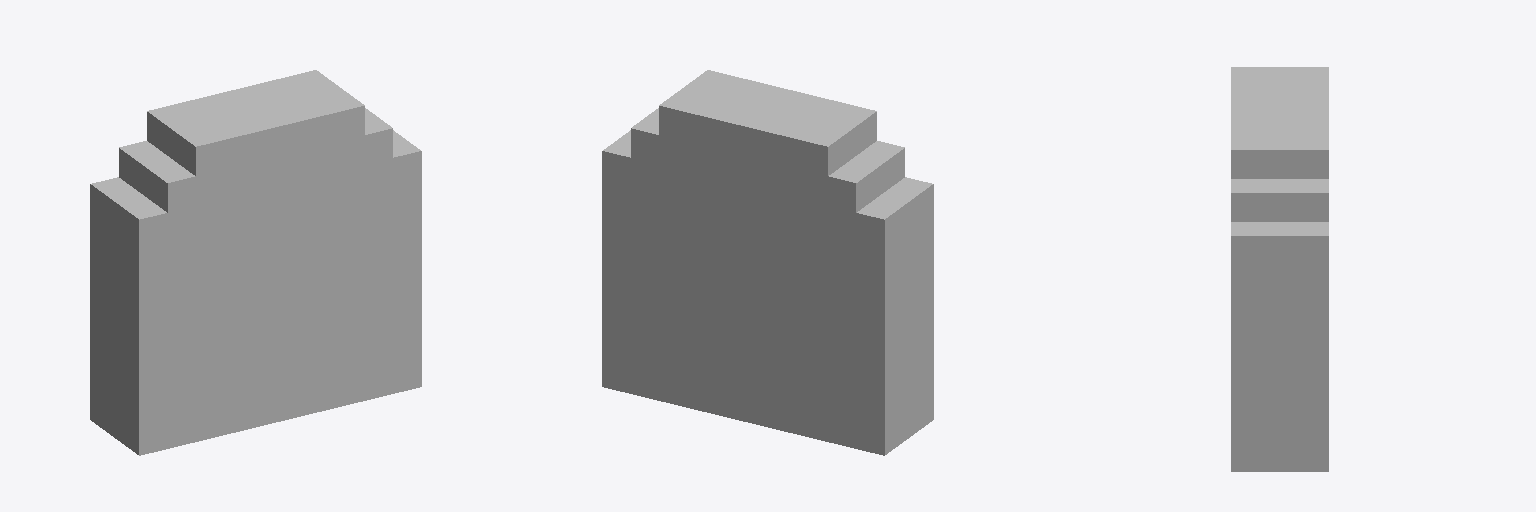
File: Office Keycard.obj
The picture shows the model from 3 angles: view 1: azimuth 30°, elevation 25°; view 2: azimuth 150°, elevation 25°; view 3: azimuth 270°, elevation 25°; orthographic projection.
Parts seen in each view (by area): view 1: object 1; view 2: object 1; view 3: object 1.
Boxes of the visible parts, x1,y1,x2,y2 form: object 1: [90, 70, 421, 455]; object 1: [602, 70, 933, 455]; object 1: [1231, 67, 1328, 471].
Size of the model in its own units: 1 by 1 by 0.3.